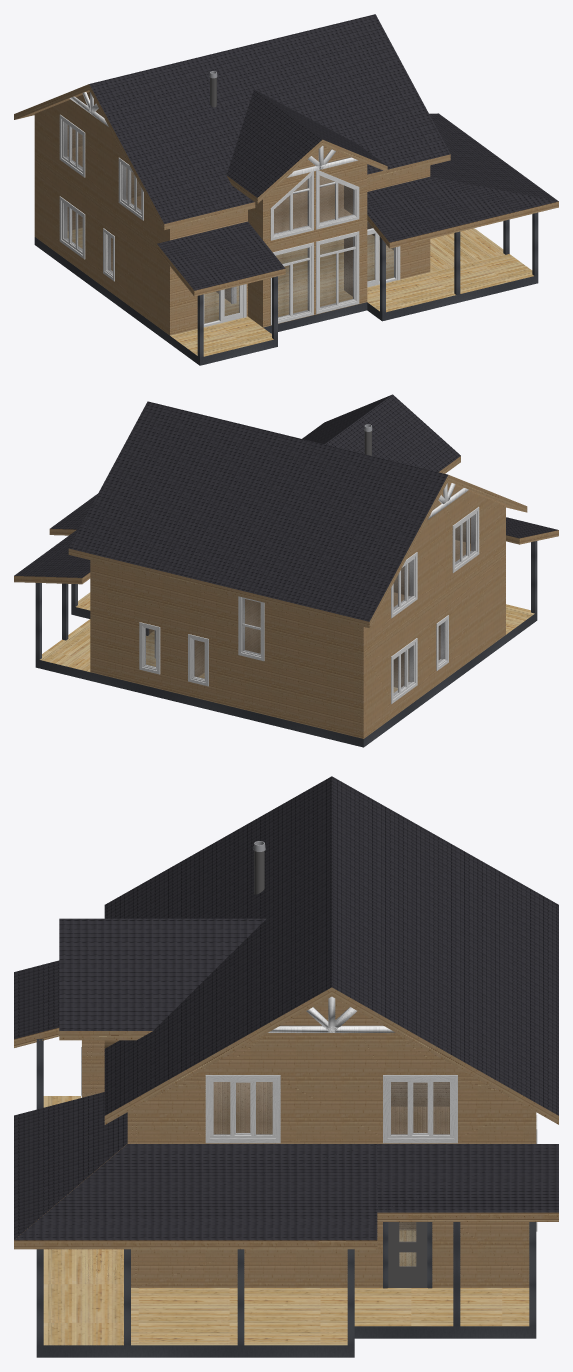
Rendered from building.glb.
The picture shows the model from 3 angles, top to bottom: view 1: azimuth 30°, elevation 25°; view 2: azimuth 150°, elevation 25°; view 3: azimuth 270°, elevation 25°; orthographic projection. The views are drawn at different scales.
Parts seen in each view (by area): view 1: 3DSMeshMatrix (×35); view 2: 3DSMeshMatrix (×24); view 3: 3DSMeshMatrix (×24).
Boxes of the visible parts, x1,y1,x2,y2 form: 3DSMeshMatrix (×35): [14, 14, 558, 365]; 3DSMeshMatrix (×24): [14, 394, 558, 747]; 3DSMeshMatrix (×24): [14, 776, 558, 1357].
Size of the model in its own units: 14 by 8 by 12.
17 materials, 12 textured.
